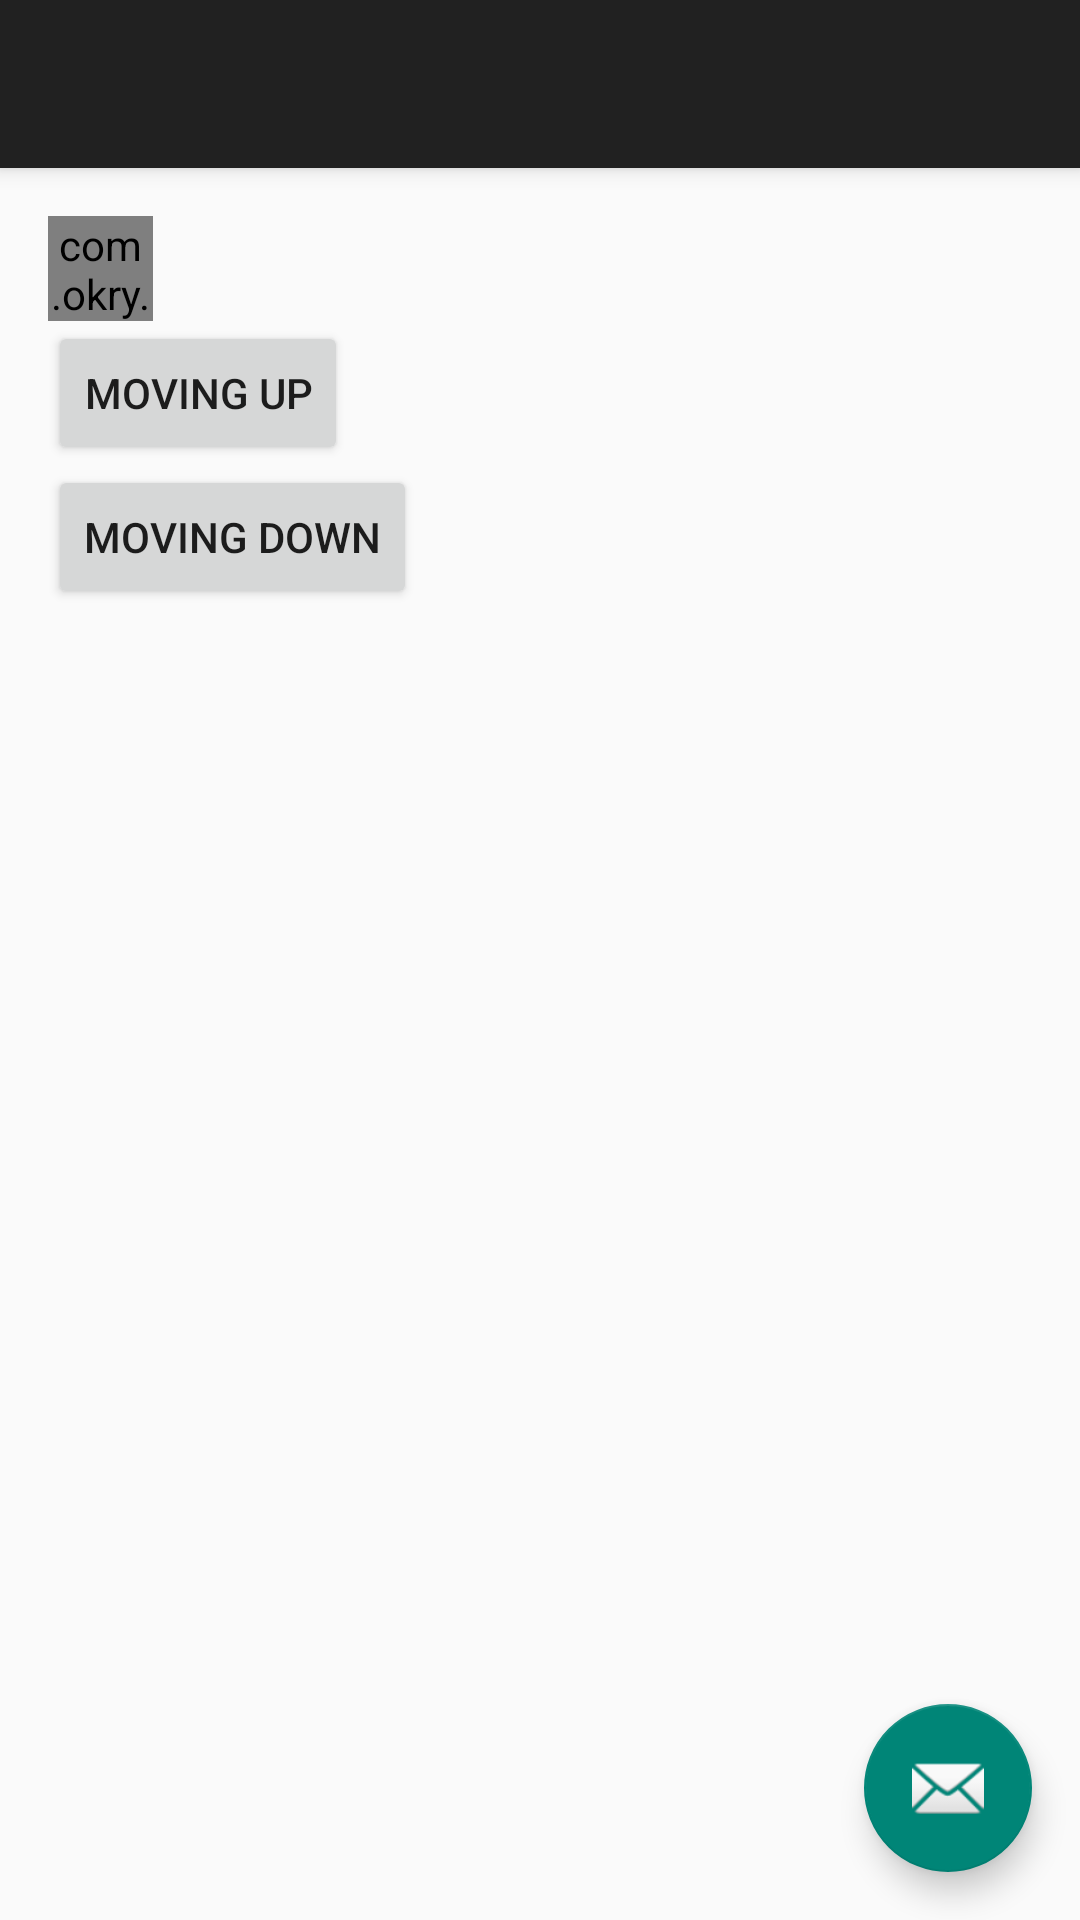

Where icons sit on this 1080w x 1920h app screen, as (x1, y1, x2, y2):
email: (864, 1704, 1032, 1872)
